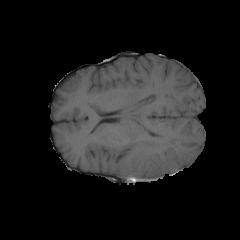glioma: (126, 135, 176, 181)
